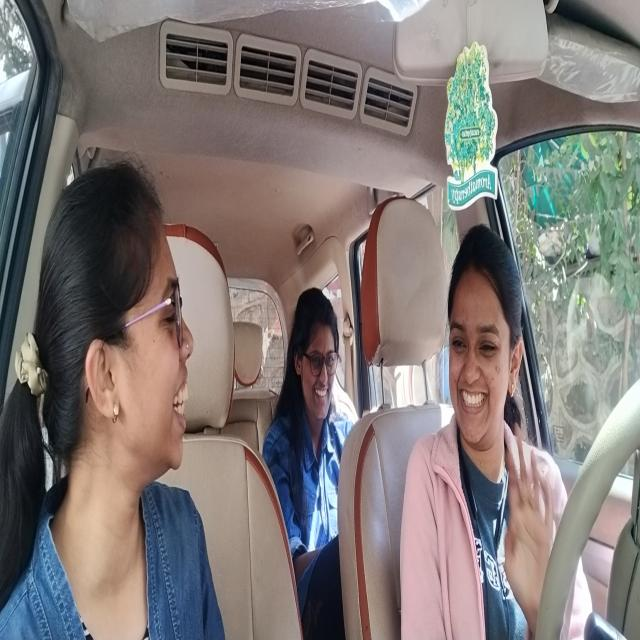person: (46, 164, 200, 499), (442, 224, 526, 456), (289, 269, 342, 432)
talking: (453, 381, 493, 427), (168, 375, 194, 438)
